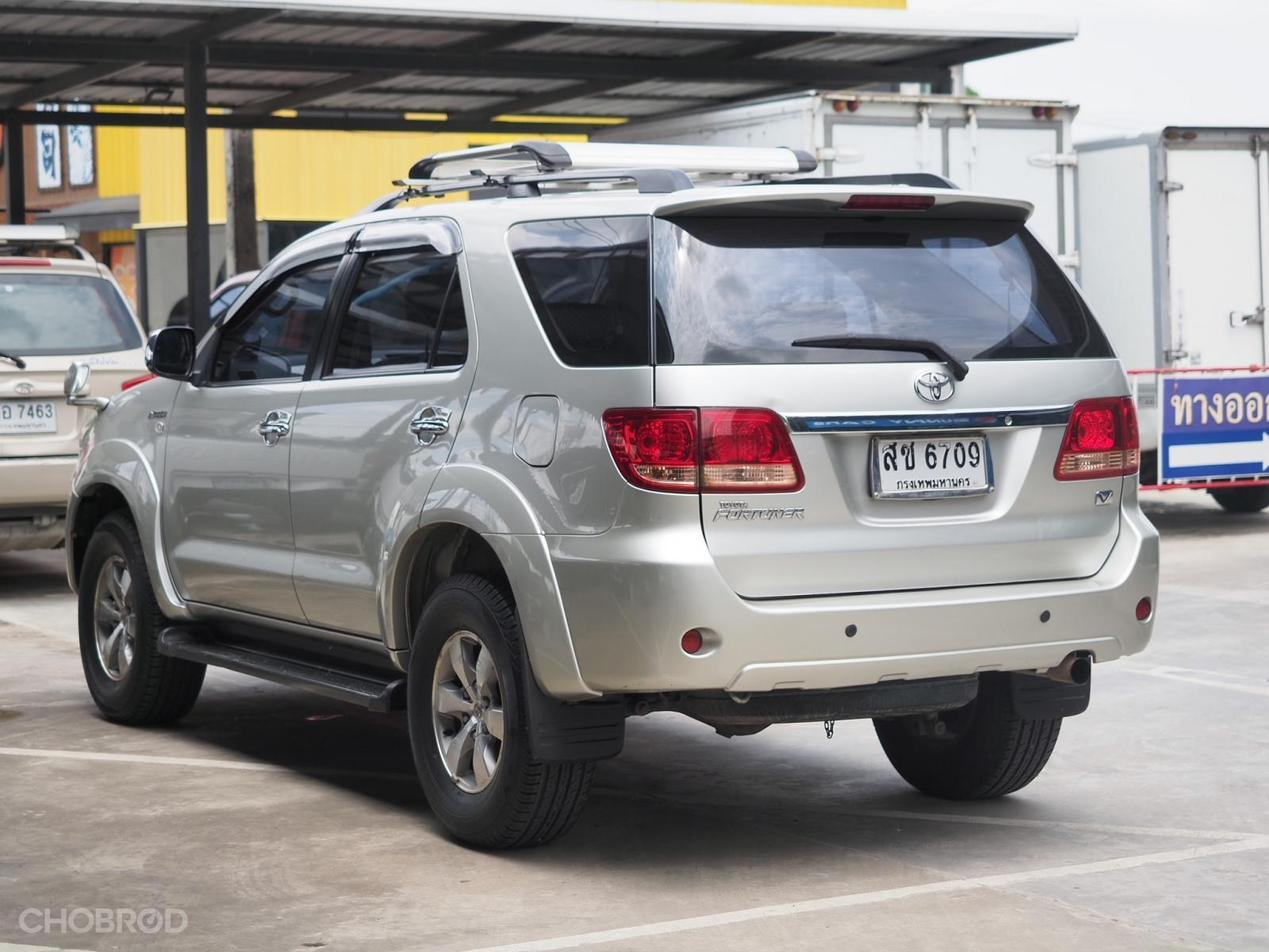license-plate: (862, 423, 998, 502), (0, 398, 57, 433)
